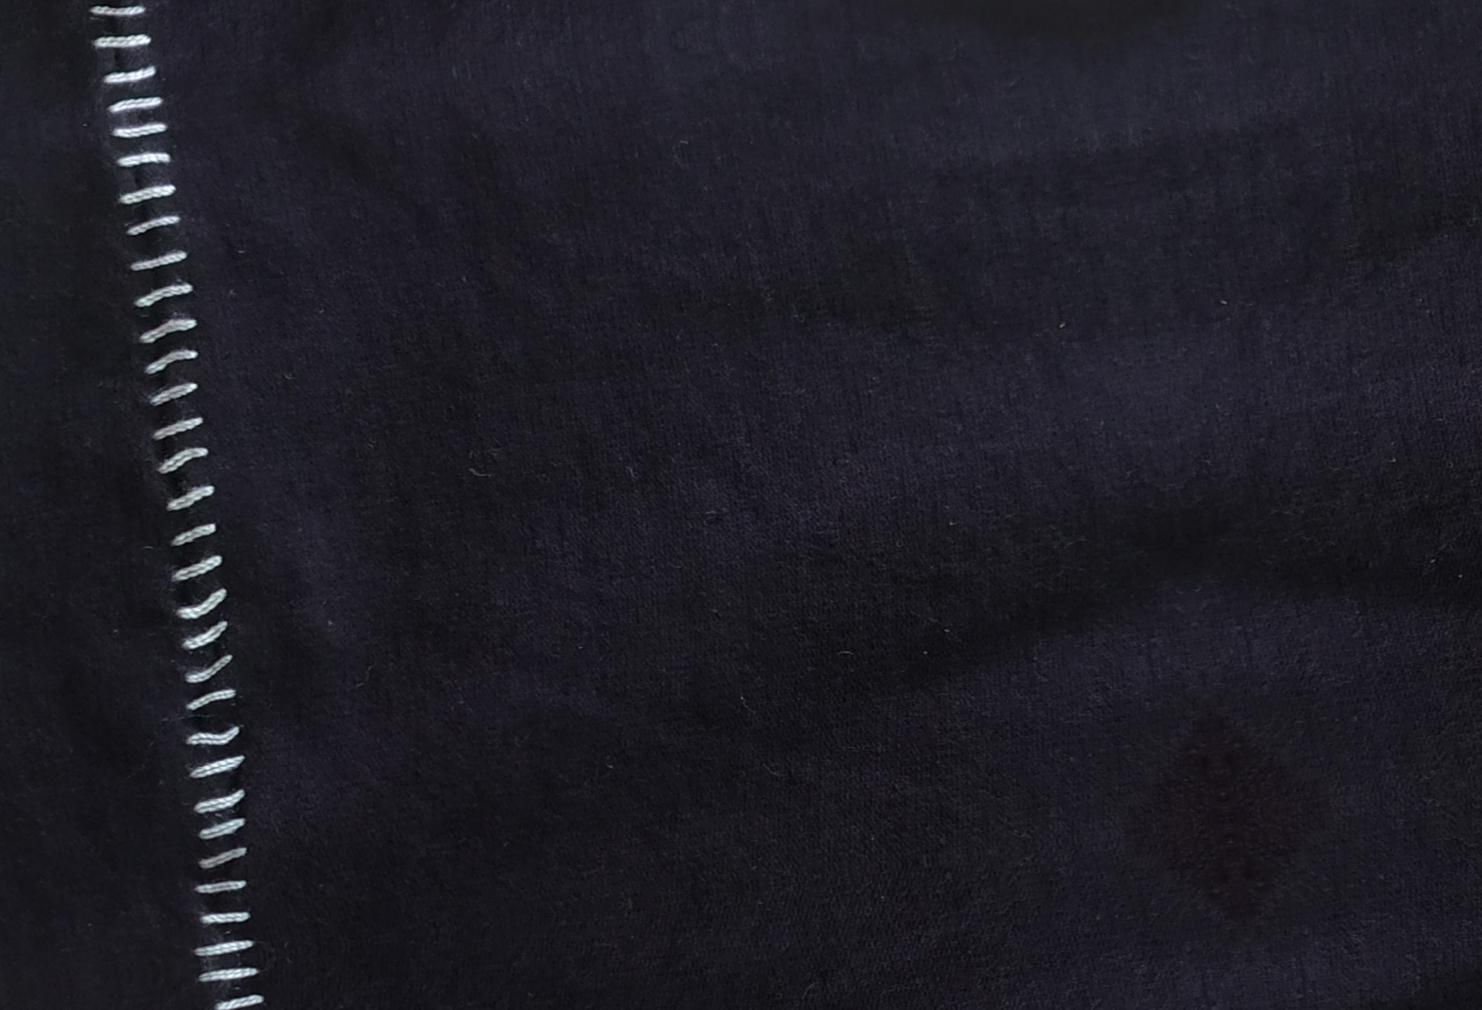slub: (87, 2, 268, 1010)
